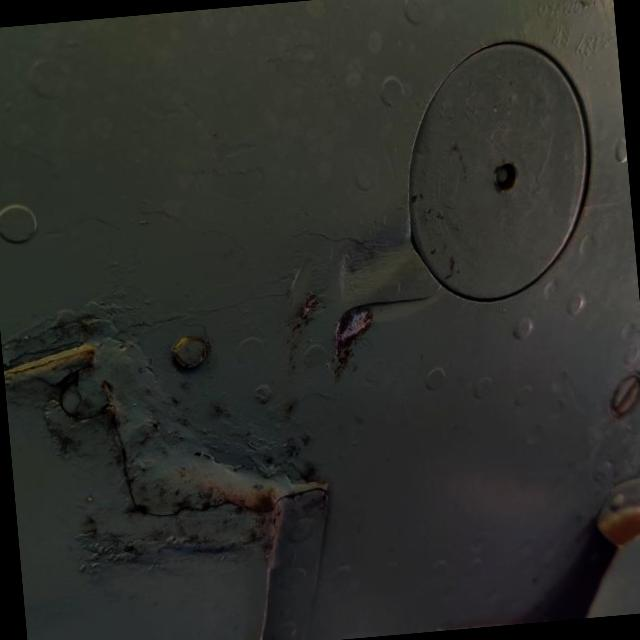paint-off: (323, 298, 386, 370)
